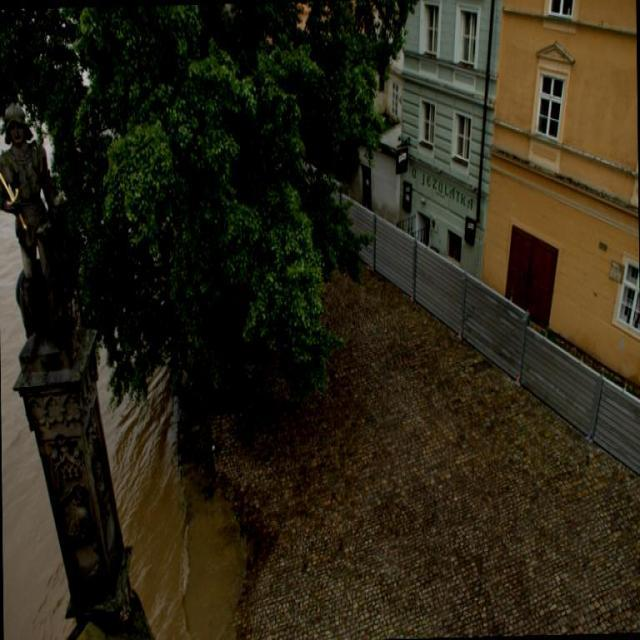flood: (0, 200, 187, 639)
